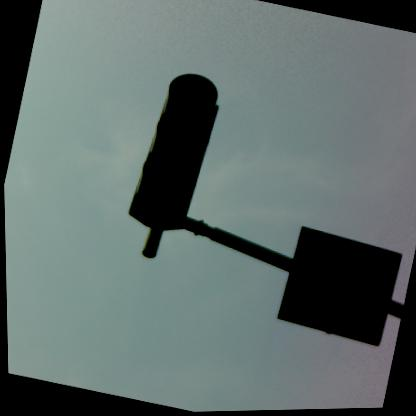red: (121, 66, 226, 241)
